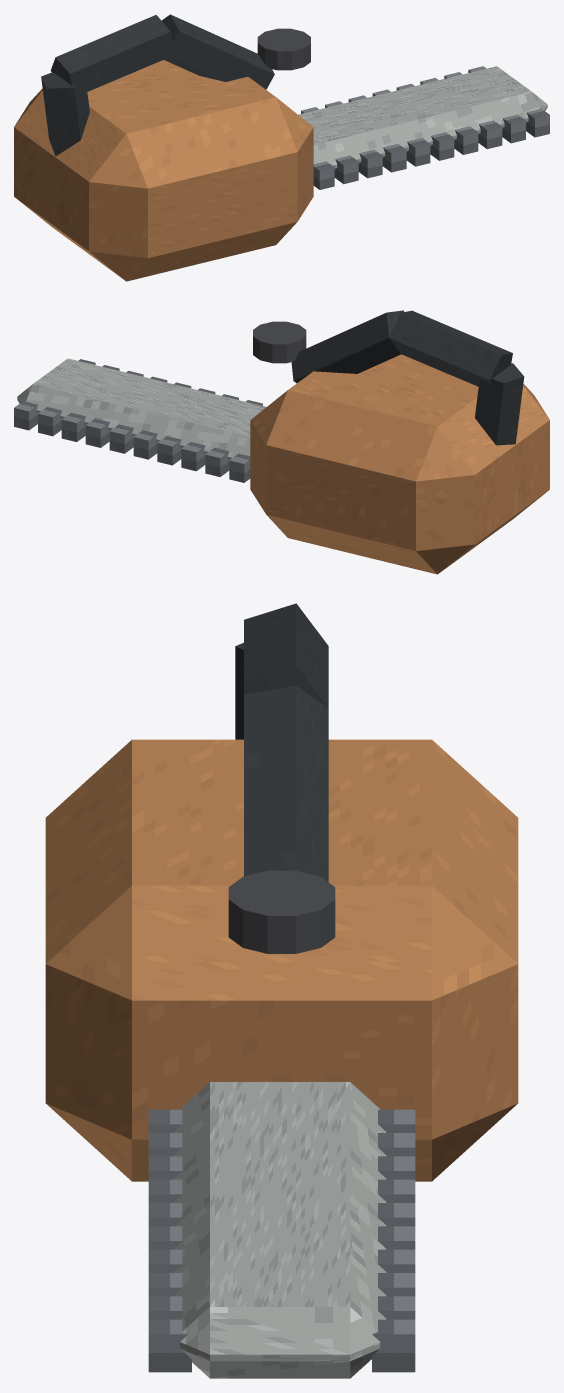
File: chainsaw_off.glb
3 renders of one model, top to bottom at view 1: azimuth 30°, elevation 25°; view 2: azimuth 150°, elevation 25°; view 3: azimuth 270°, elevation 25°, orthographic. The views are drawn at different scales.
Visible parts, largest first — view 1: block_chainsaw housing, block_saw bar, block_chain link (×10), block_handle 1, block_handle 2, block_handle 0, block_fuel cap; view 2: block_chainsaw housing, block_saw bar, block_chain link (×10), block_handle 1, block_handle 2, block_handle 0, block_fuel cap; view 3: block_chainsaw housing, block_saw bar, block_handle 2, block_fuel cap, block_handle 1, block_chain link (×2).
Part boxes in pixels (x1,y1,x2,y2): block_chainsaw housing: [14, 60, 313, 281]; block_saw bar: [298, 66, 547, 169]; block_chain link (×10): [313, 108, 549, 189]; block_handle 1: [50, 14, 174, 95]; block_handle 2: [161, 14, 274, 89]; block_handle 0: [41, 72, 89, 156]; block_fuel cap: [257, 28, 310, 70]; block_chainsaw housing: [250, 354, 549, 574]; block_saw bar: [17, 358, 266, 461]; block_chain link (×10): [14, 400, 250, 482]; block_handle 1: [389, 310, 512, 386]; block_handle 2: [291, 310, 404, 383]; block_handle 0: [475, 363, 524, 445]; block_fuel cap: [253, 321, 306, 363]; block_chainsaw housing: [45, 739, 518, 1181]; block_saw bar: [174, 1082, 386, 1378]; block_handle 2: [244, 685, 328, 881]; block_fuel cap: [228, 870, 335, 953]; block_handle 1: [244, 603, 328, 708]; block_chain link (×2): [148, 1319, 415, 1372].
Size of the model in its own units: 0.82 by 0.3536 by 0.3452.
1 material, 1 textured.
